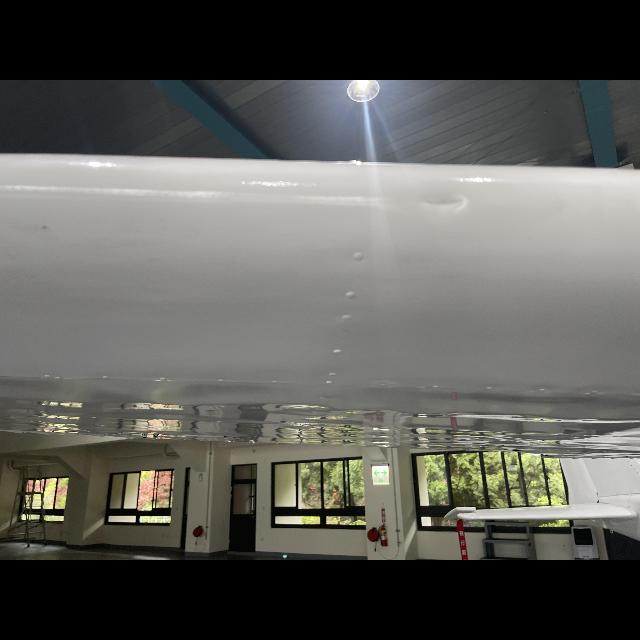dent: (401, 186, 482, 220)
